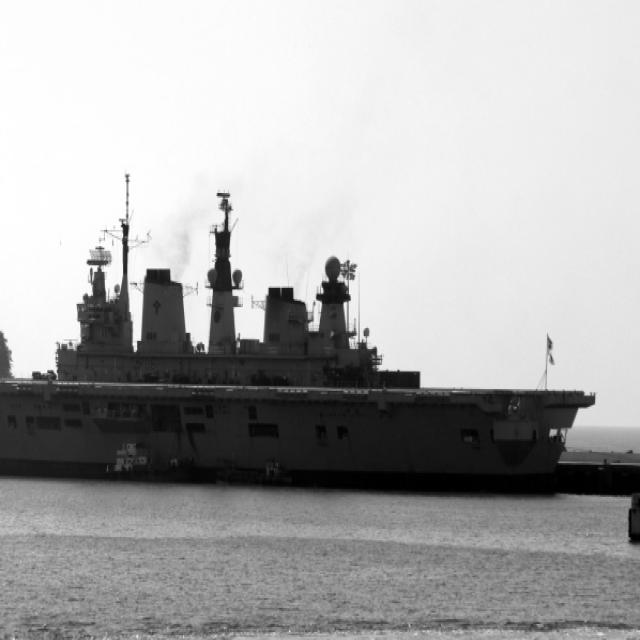Portanaves: (1, 160, 609, 508)
